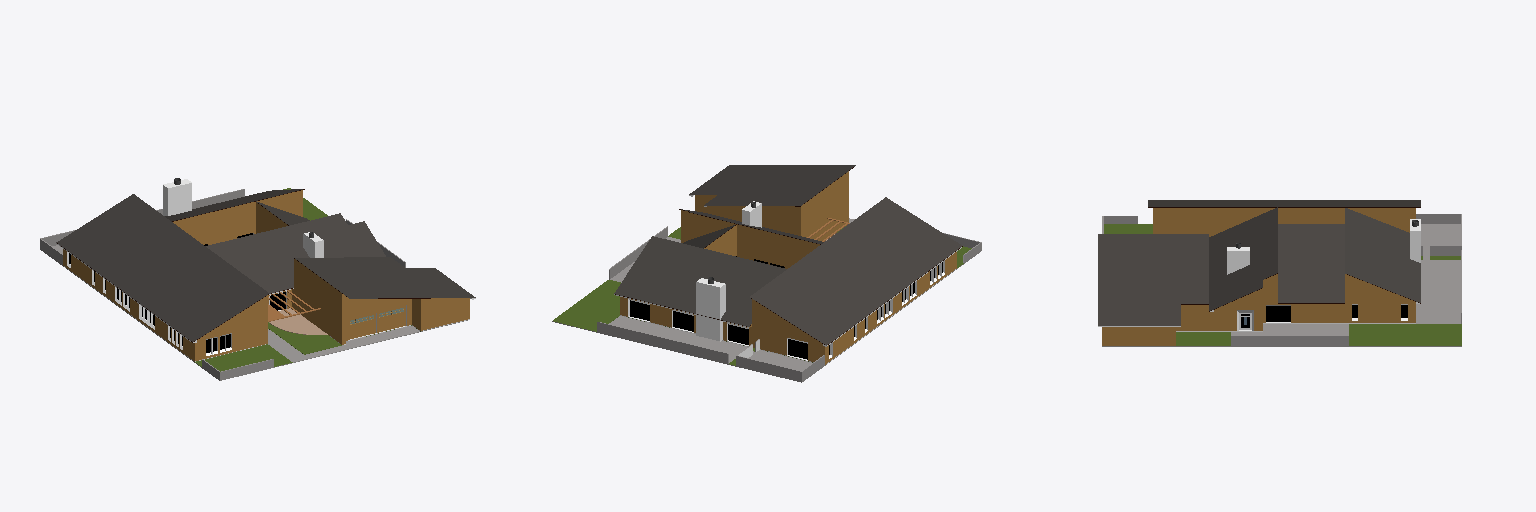
The model's file is House_wAtrium01.obj.
3 views of the same model, side by side, from view 1: azimuth 30°, elevation 25°; view 2: azimuth 150°, elevation 25°; view 3: azimuth 270°, elevation 25° (orthographic).
Visible parts, largest first — view 1: House_wAtrium01_c_Component_4-Roofing_Shingles_GAF_Estates, House_wAtrium01_c_Component_4-00_MyCust_01, House_wAtrium01_c_Group_2-Concrete_Aggregate_Gray, House_wAtrium01_c_Group_2-Vegetation_Grass_Blue, House_wAtrium01_c_Component_4-Color_000, House_wAtrium01_c_Component_4-Material15, House_wAtrium01_c_Component_4-Default_Material, House_wAtrium01_c_Component_4-Translucent_Glass_Blue; view 2: House_wAtrium01_c_Component_4-Roofing_Shingles_GAF_Estates, House_wAtrium01_c_Component_4-00_MyCust_01, House_wAtrium01_c_Group_2-Concrete_Aggregate_Gray, House_wAtrium01_c_Component_4-Color_000, House_wAtrium01_c_Group_2-Vegetation_Grass_Blue, House_wAtrium01_c_Component_4-Translucent_Glass_Blue; view 3: House_wAtrium01_c_Component_4-Roofing_Shingles_GAF_Estates, House_wAtrium01_c_Component_4-00_MyCust_01, House_wAtrium01_c_Group_2-Concrete_Aggregate_Gray, House_wAtrium01_c_Group_2-Vegetation_Grass_Blue, House_wAtrium01_c_Component_4-Color_000, House_wAtrium01_c_Component_4-Translucent_Glass_Blue.
Boxes of the visible parts, <box> form: House_wAtrium01_c_Component_4-Roofing_Shingles_GAF_Estates: <box>56,189,475,341</box>; House_wAtrium01_c_Component_4-00_MyCust_01: <box>63,190,469,361</box>; House_wAtrium01_c_Group_2-Concrete_Aggregate_Gray: <box>40,189,467,380</box>; House_wAtrium01_c_Group_2-Vegetation_Grass_Blue: <box>195,188,420,371</box>; House_wAtrium01_c_Component_4-Color_000: <box>67,179,406,355</box>; House_wAtrium01_c_Component_4-Material15: <box>269,308,327,334</box>; House_wAtrium01_c_Component_4-Default_Material: <box>56,184,475,342</box>; House_wAtrium01_c_Component_4-Translucent_Glass_Blue: <box>69,233,285,352</box>; House_wAtrium01_c_Component_4-Roofing_Shingles_GAF_Estates: <box>614,165,961,345</box>; House_wAtrium01_c_Component_4-00_MyCust_01: <box>620,171,956,364</box>; House_wAtrium01_c_Group_2-Concrete_Aggregate_Gray: <box>552,218,981,382</box>; House_wAtrium01_c_Component_4-Color_000: <box>628,201,944,360</box>; House_wAtrium01_c_Group_2-Vegetation_Grass_Blue: <box>553,226,971,365</box>; House_wAtrium01_c_Component_4-Translucent_Glass_Blue: <box>630,256,942,359</box>; House_wAtrium01_c_Component_4-Roofing_Shingles_GAF_Estates: <box>1098,200,1420,325</box>; House_wAtrium01_c_Component_4-00_MyCust_01: <box>1102,208,1415,345</box>; House_wAtrium01_c_Group_2-Concrete_Aggregate_Gray: <box>1102,214,1461,346</box>; House_wAtrium01_c_Group_2-Vegetation_Grass_Blue: <box>1104,224,1461,345</box>; House_wAtrium01_c_Component_4-Color_000: <box>1227,219,1420,330</box>; House_wAtrium01_c_Component_4-Translucent_Glass_Blue: <box>1241,305,1407,327</box>.
Size of the model in its own units: 39.76 by 8.7 by 48.61.